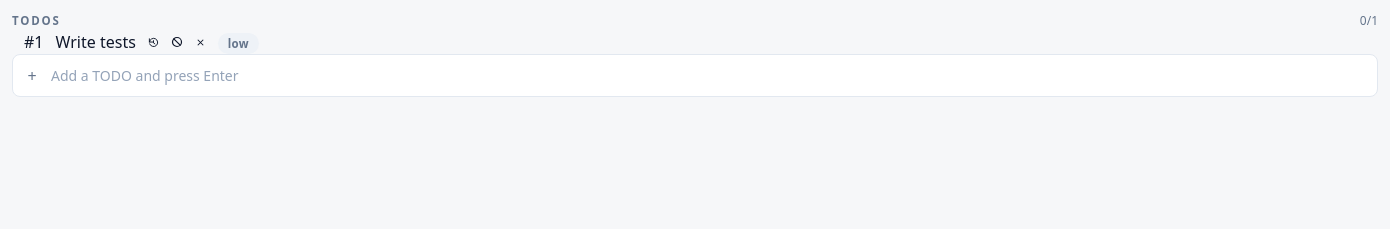
Test case: TodosSection blocked unblock badge and touch block editor › touch: a failed block re-opens the editor with the draft and Save/Cancel
Click the button named "Block". click: coordinates (177, 42)
box: [171,36,183,48]
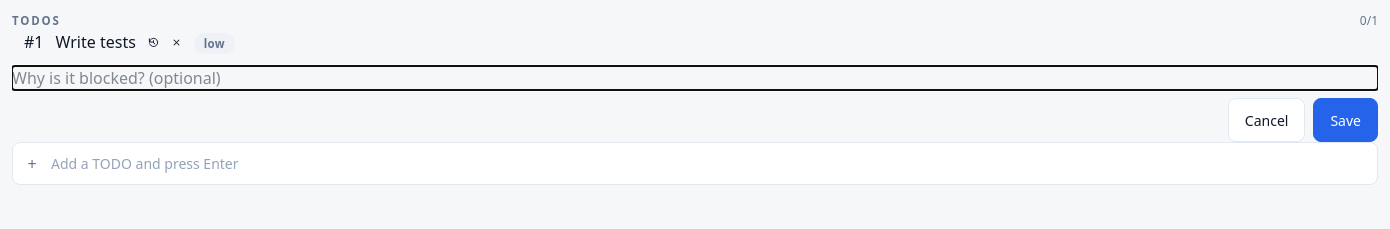
Type "Waiting" into the field named "Blocked reason, optional". click: coordinates (695, 78)
box: [12,66,1378,90]
Then press Enter
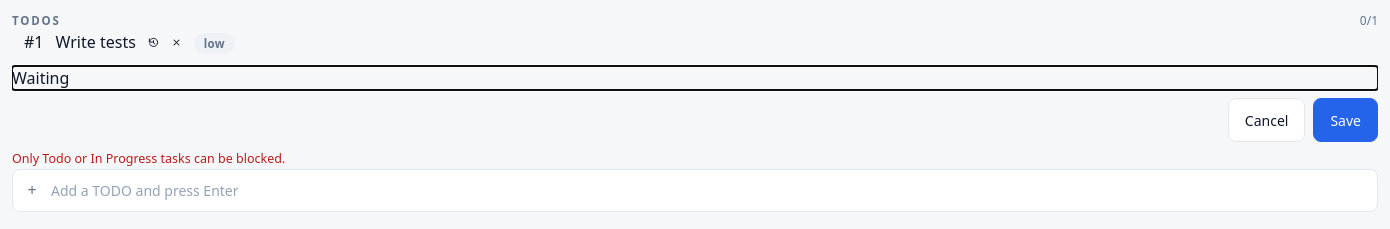
Expected: the button "Save" is shown, [1313,98,1378,142]
Expected: the field named "Blocked reason, optional" holds "Waiting", [12,66,1378,90]
